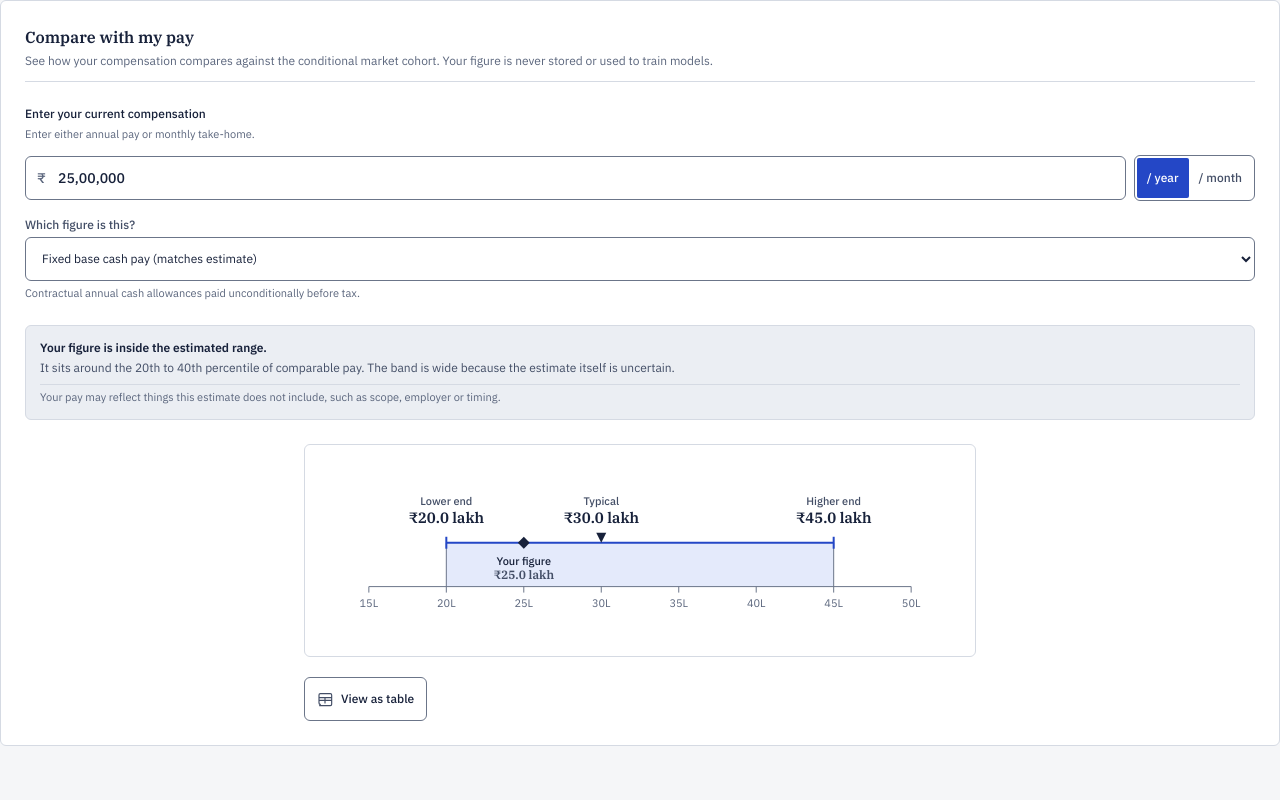
Test case: PayCompare › shows definition mismatch caution notice when user selects CTC instead of guaranteed cash
// Select CTC
Select "Total CTC (Cost to Company)" in the dropdown labelled "Which figure is this?": x=640, y=258 top-left (25, 236), bottom-right (1255, 280)
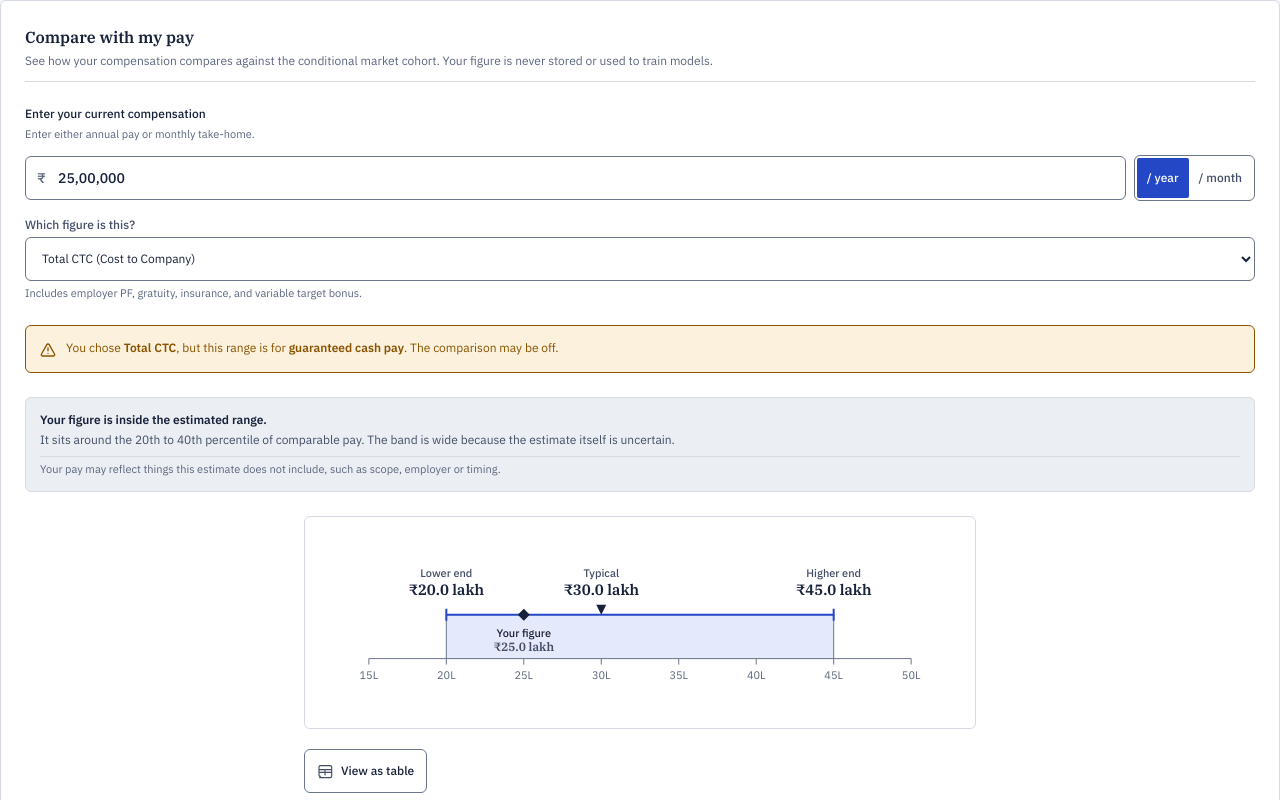
Now the element with test id "definition-mismatch-banner" shows "You chose Total CTC, but this range is for guaranteed cash pay. The comparison may be off.", box top-left (25, 325), bottom-right (1255, 373)
